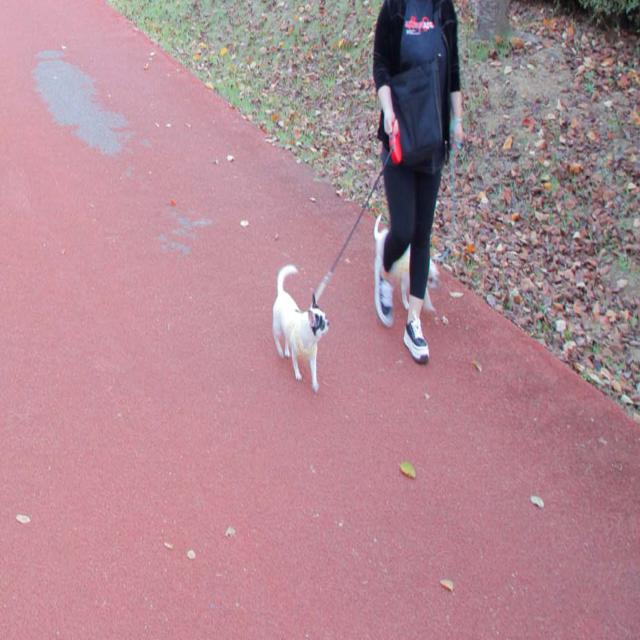Leashed_Dog: (272, 112, 402, 395), (373, 116, 463, 311)
